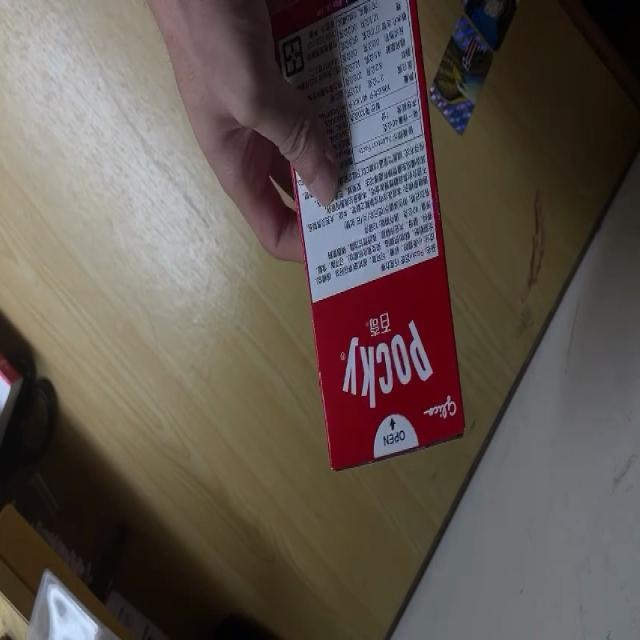Pocky: (271, 0, 464, 473)
